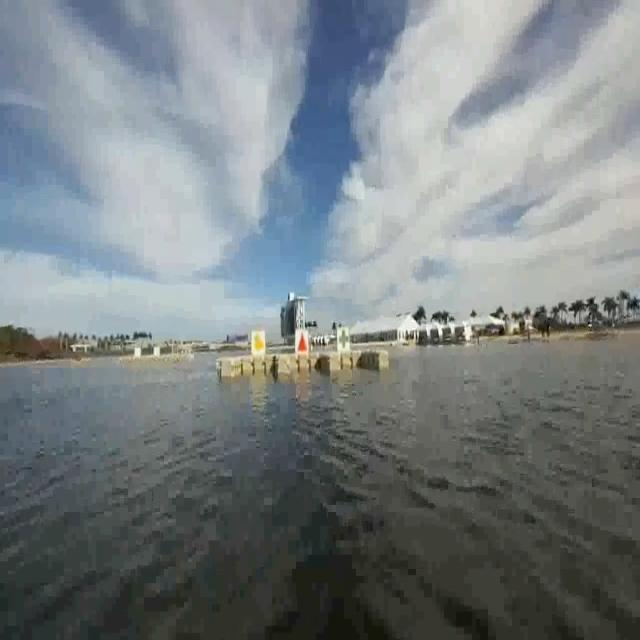blue-cross: (336, 325, 352, 354)
red-dot: (295, 329, 308, 356)
yellow-duck: (251, 331, 267, 356)
